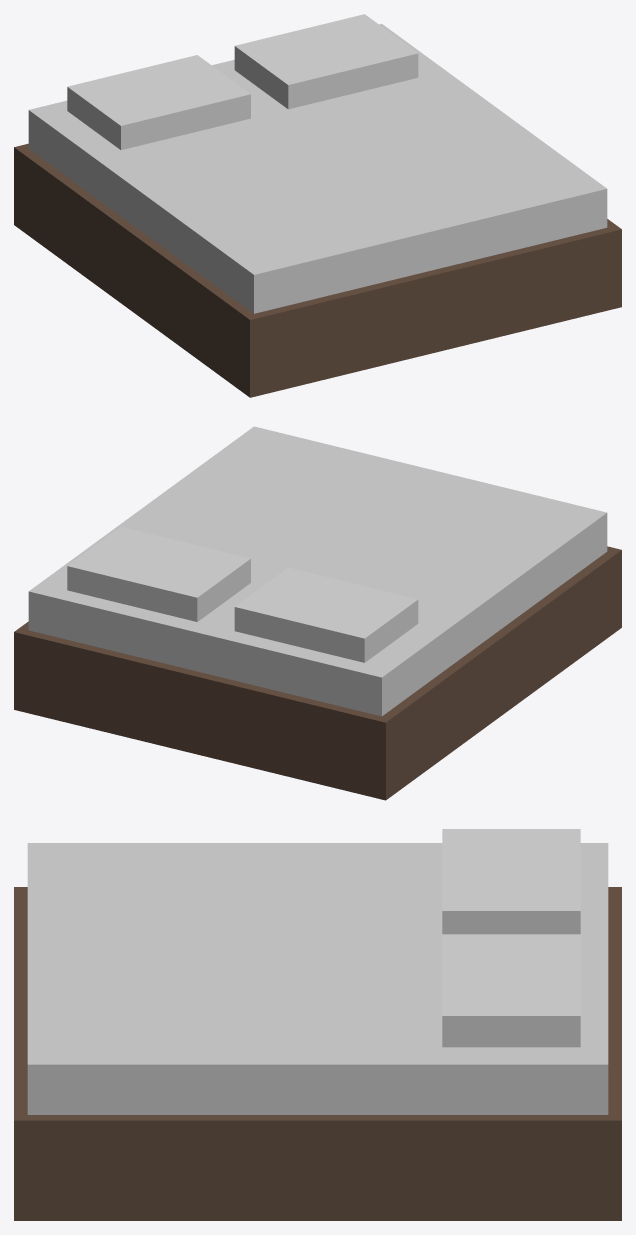
The model's file is bed.glb.
3 views of the same model, one above another, from view 1: azimuth 30°, elevation 25°; view 2: azimuth 150°, elevation 25°; view 3: azimuth 270°, elevation 25° (orthographic). The views are drawn at different scales.
Parts seen in each view (by area): view 1: geometry_0; view 2: geometry_0; view 3: geometry_0.
Part boxes in pixels (x1,y1,x2,y2): geometry_0: (14,14,621,397); geometry_0: (14,426,621,800); geometry_0: (14,829,621,1220).
Size of the model in its own units: 2 by 0.725 by 2.2.
